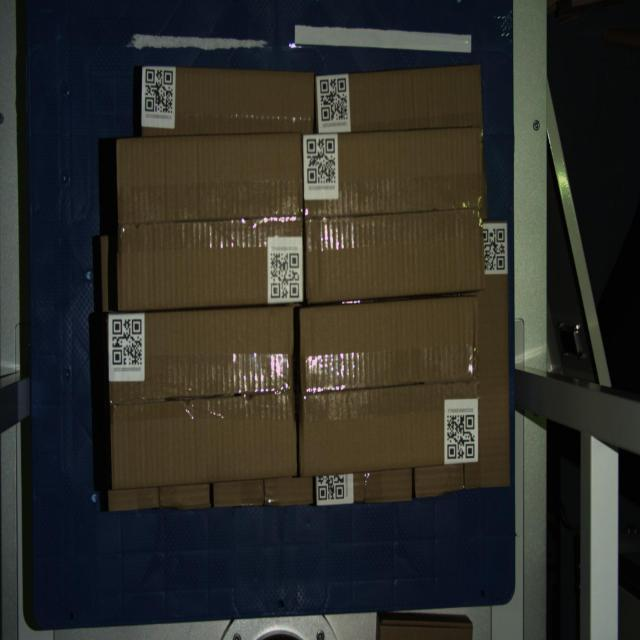box: (106, 306, 297, 489), (116, 133, 304, 310), (300, 296, 480, 477), (302, 126, 483, 303)
